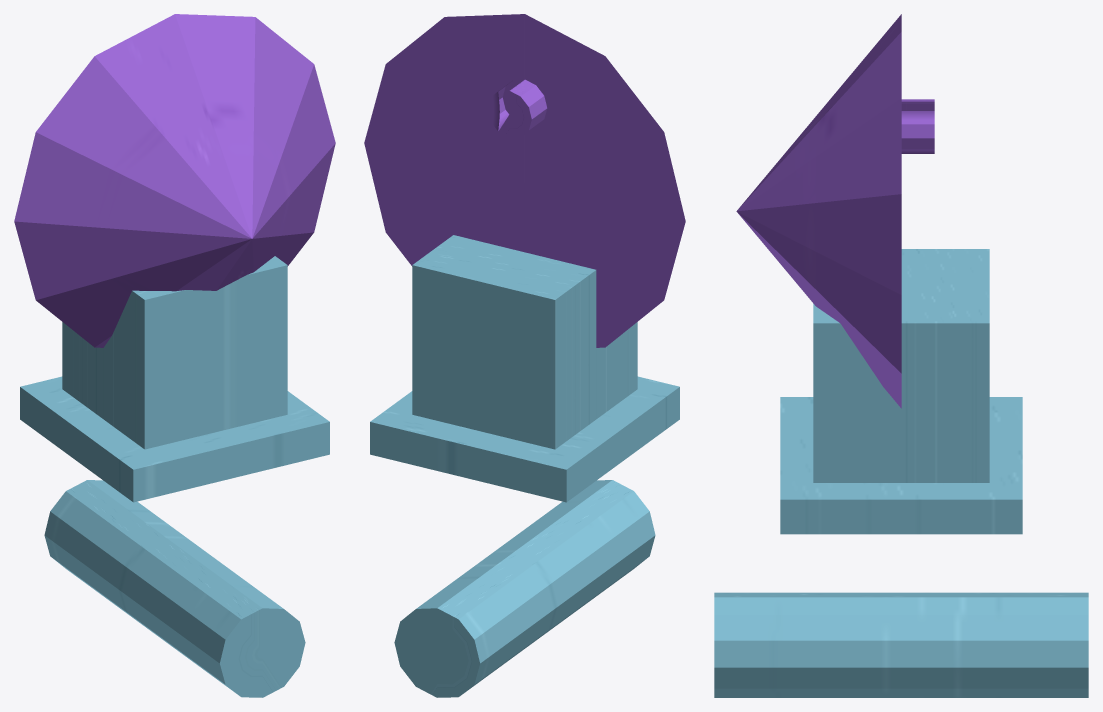
Rendered from ice_lantern.obj.
3 views of the same model, side by side, from view 1: azimuth 30°, elevation 25°; view 2: azimuth 150°, elevation 25°; view 3: azimuth 270°, elevation 25° (orthographic). The views are drawn at different scales.
Bounding box in the file's own units: 3.6 × 6.63 × 3.4.
1 material, 1 textured.
